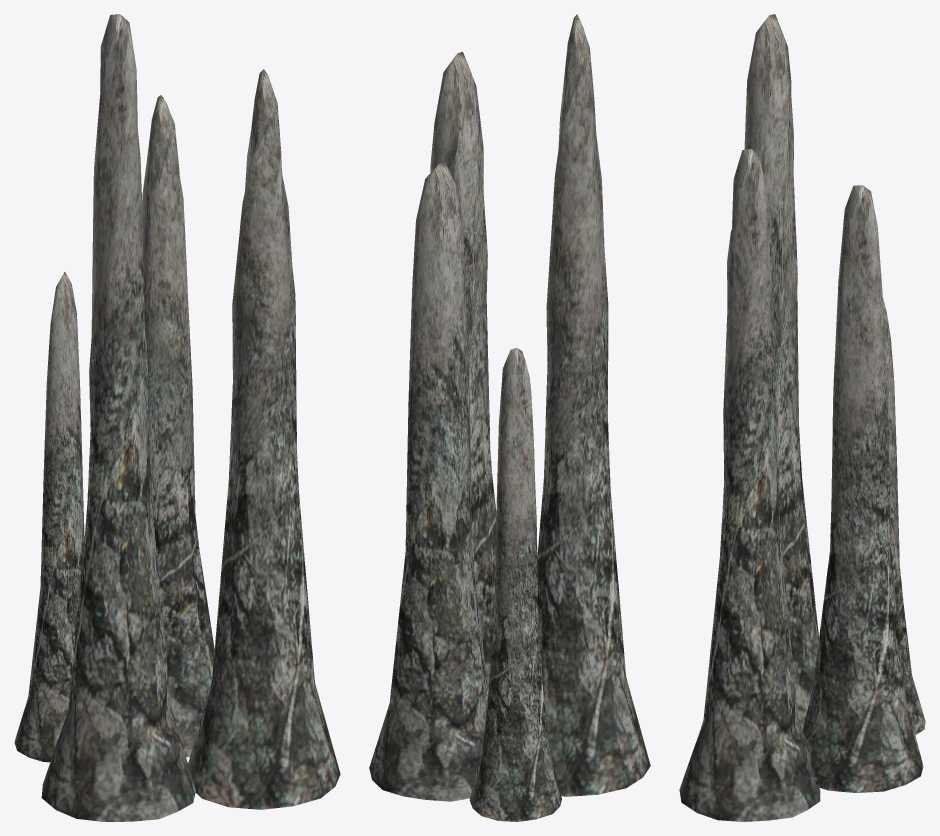
The model's file is Stalactite01.DAE.
3 views of the same model, side by side, from view 1: azimuth 30°, elevation 25°; view 2: azimuth 150°, elevation 25°; view 3: azimuth 270°, elevation 25° (orthographic). The views are drawn at different scales.
Visible parts, largest first — view 1: Box003; view 2: Box003; view 3: Box003.
Part boxes in pixels (x1=…): Box003: x1=14, y1=14, x2=340, y2=821; Box003: x1=369, y1=14, x2=650, y2=821; Box003: x1=679, y1=14, x2=925, y2=821.
Size of the model in its own units: 0.00324 by 0.00927 by 0.00287.
